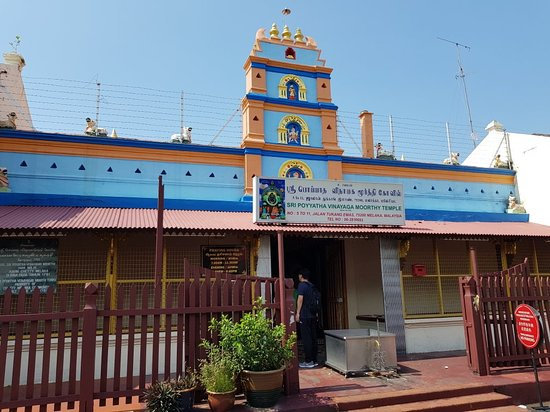Hindu Temple: (21, 30, 511, 318)
